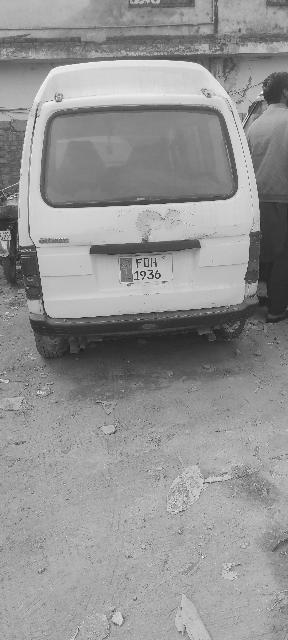Number: (134, 257, 164, 281)
